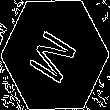M_SE: (26, 23, 84, 87)
